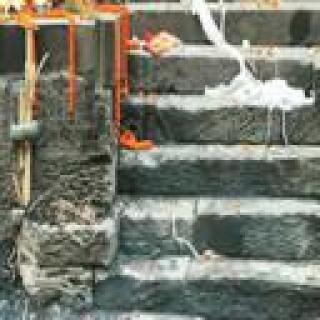fire: (0, 0, 27, 15)
